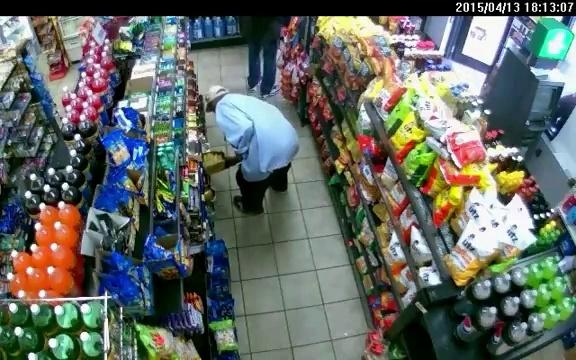Product: (195, 143, 224, 174)
Product-Picked: (166, 65, 313, 232)
Regular: (228, 14, 300, 81)
